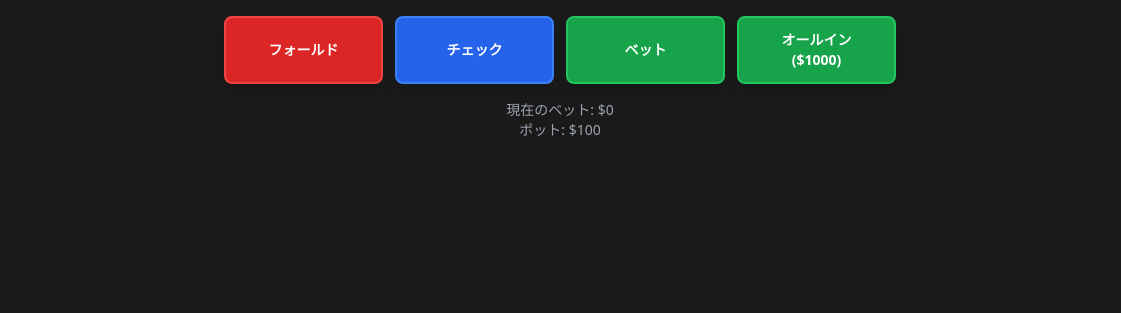
Test: ActionButtons › ベットキャンセルボタンをクリックすると入力画面が閉じる
What coordinates should you click on to do the following:
click the button with test id "bet-btn"
I would click on:
 (646, 50)
Its box is [566,16,725,84].
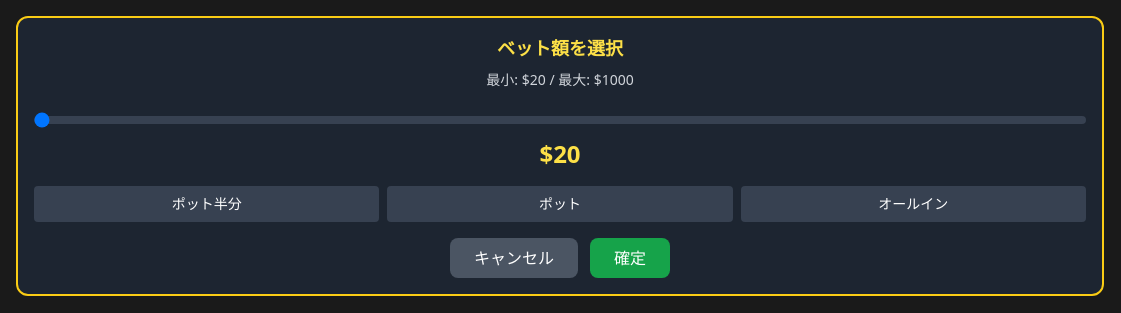
Expected: the heading "ベット額を選択" is shown, [497,36,623,60]
What coordinates should you click on to do the following:
click the button with test id "cancel-bet-btn"
I would click on:
 (514, 258)
Its box is [450,238,578,278].
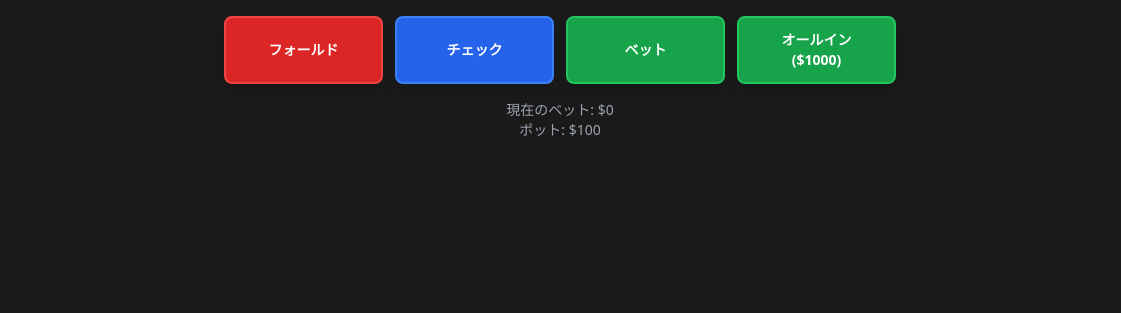
Expected: the heading "ベット額を選択" is gone
